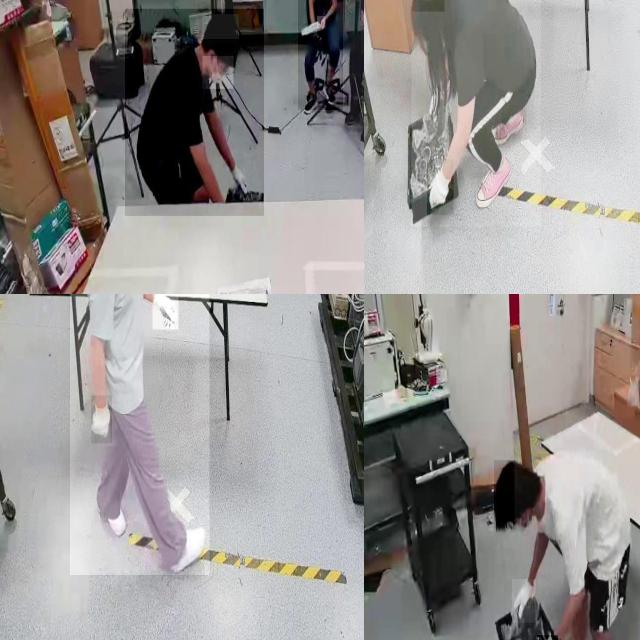face_mask: (202, 56, 234, 89)
hand_glove: (427, 159, 454, 216), (512, 579, 536, 624), (229, 158, 253, 202), (91, 396, 113, 444), (152, 294, 178, 329)
hand_noglove: (317, 16, 326, 29)
head_nohelmet: (494, 460, 515, 529), (202, 14, 240, 40), (411, 0, 444, 12)
person: (70, 294, 210, 576), (474, 443, 640, 640), (411, 0, 541, 227), (125, 9, 265, 217), (298, 0, 343, 111)
shoes: (163, 517, 210, 577), (474, 152, 514, 213), (96, 488, 134, 542), (322, 75, 338, 109), (302, 87, 320, 116)
